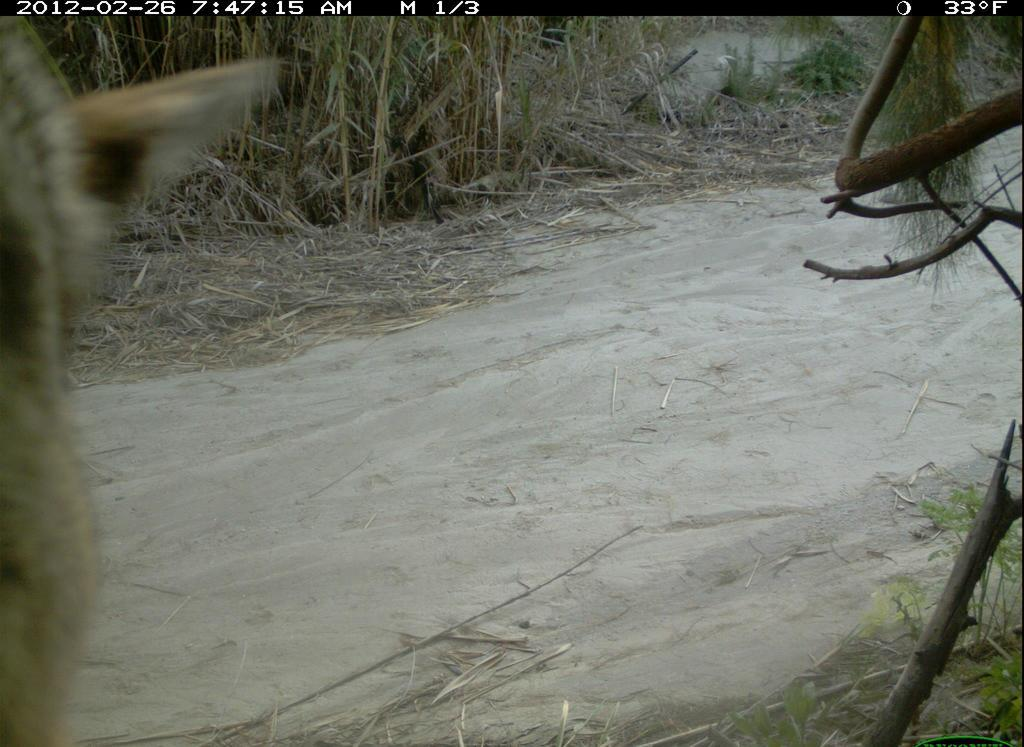coyote: (2, 15, 296, 742)
